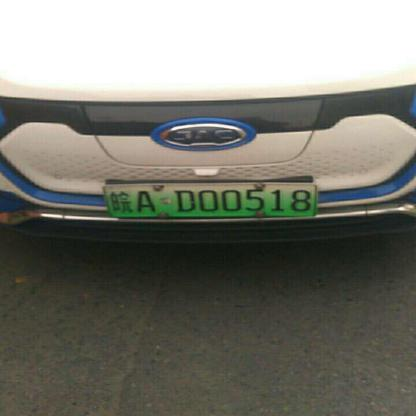lp: (102, 185, 317, 217)
